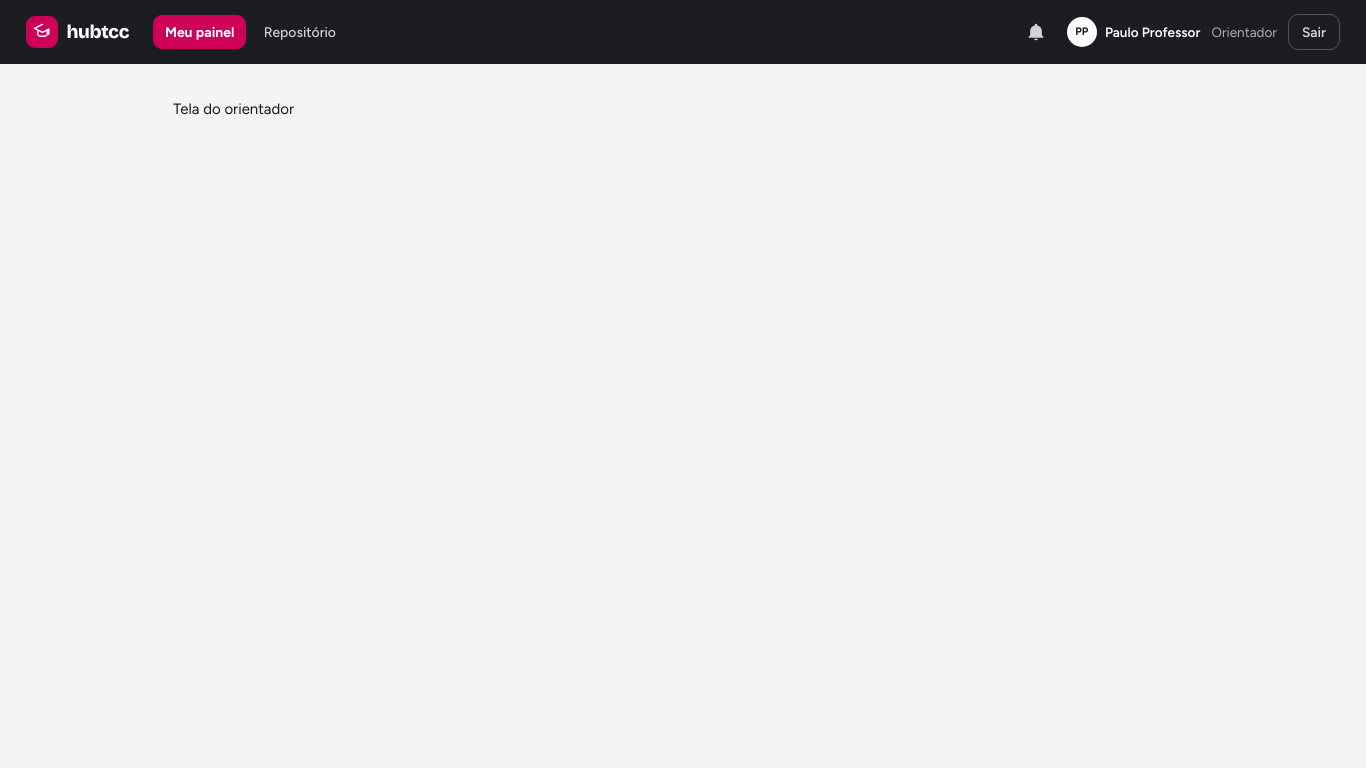
fluxo de autenticação › sair encerra a sessão e volta ao login
The image size is (1366, 768).
Click the button "Sair" at (1314, 32), box left=1288, top=14, right=1340, bottom=50
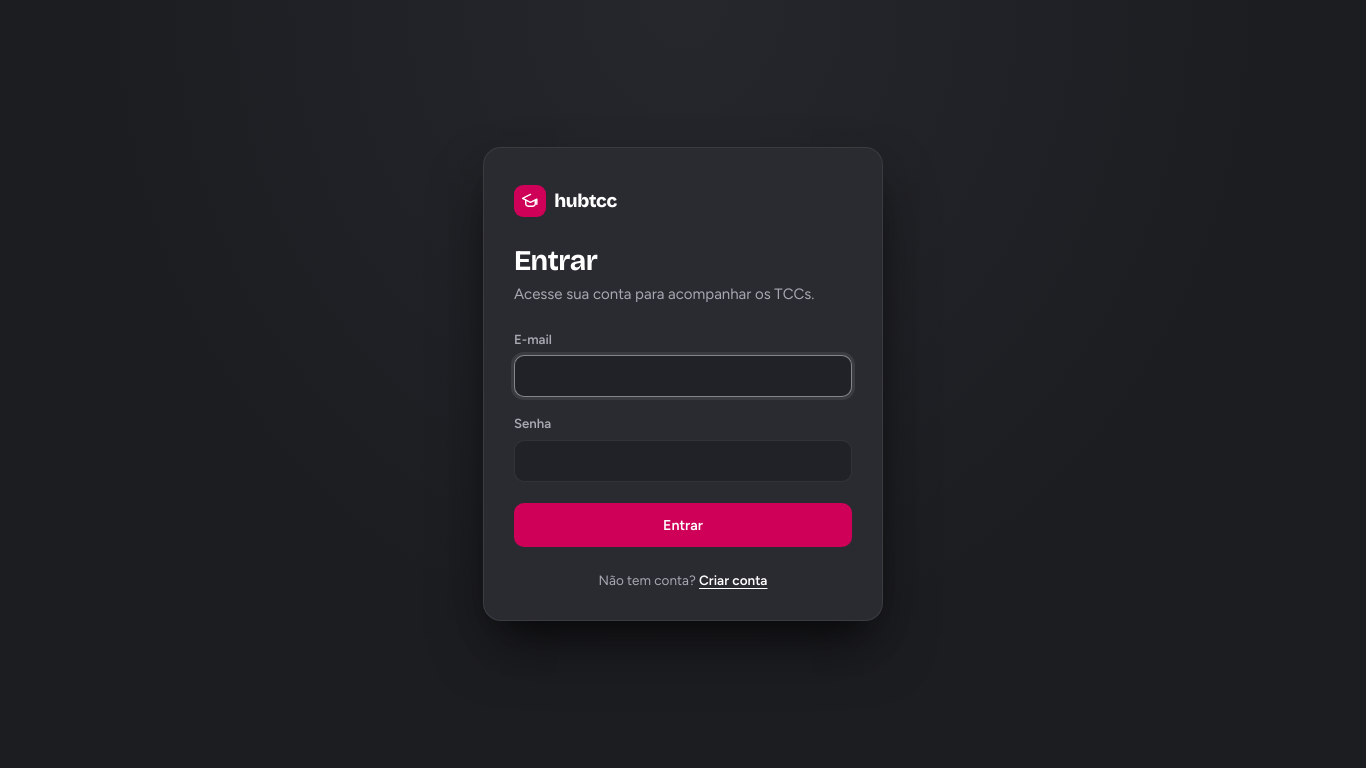
Result: the heading "Entrar" is shown at left=514, top=243, right=598, bottom=278
